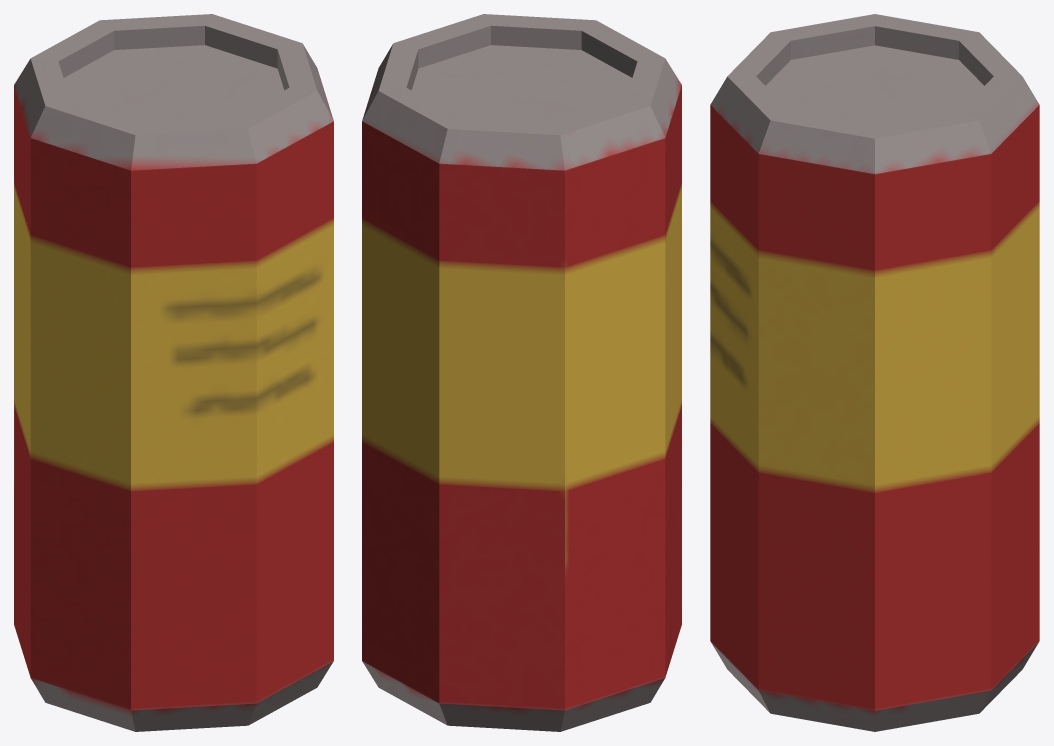
The model's file is SM_Food_08.fbx.
The picture shows the model from 3 angles, left to right: view 1: azimuth 30°, elevation 25°; view 2: azimuth 150°, elevation 25°; view 3: azimuth 270°, elevation 25°; orthographic projection.
Parts seen in each view (by area): view 1: SM_Food_08; view 2: SM_Food_08; view 3: SM_Food_08.
Part boxes in pixels (box(x1,y1,x2,y2)): SM_Food_08: box(14, 14, 333, 731); SM_Food_08: box(362, 14, 681, 731); SM_Food_08: box(710, 14, 1039, 731).
Bounding box in the file's own units: 8.09 × 16.09 × 8.09.
